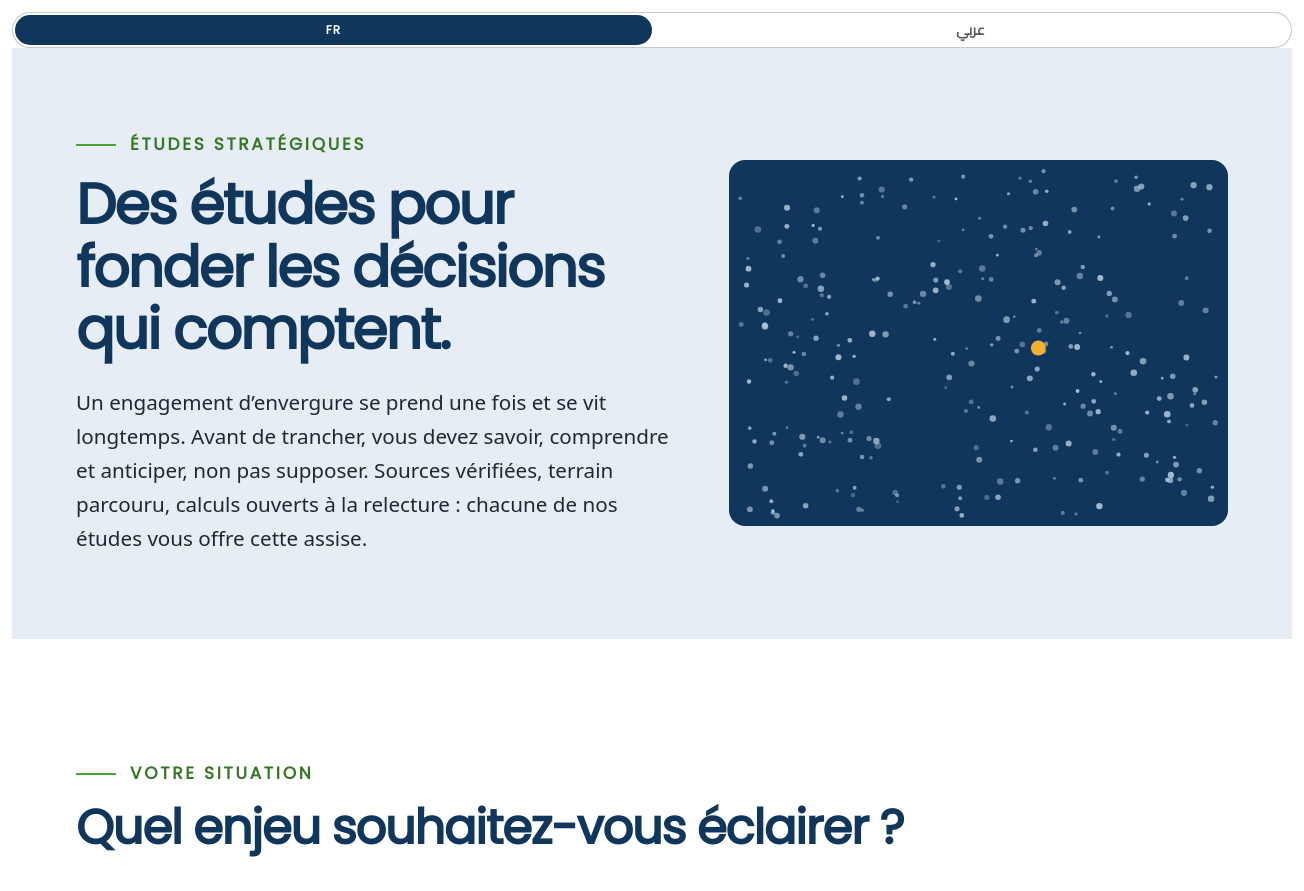
Page « Études stratégiques » › passe en arabe
What coordinates should you click on to do the following:
click the button "عربي"
I would click on:
 (970, 30)
Its box is [652, 15, 1289, 45].
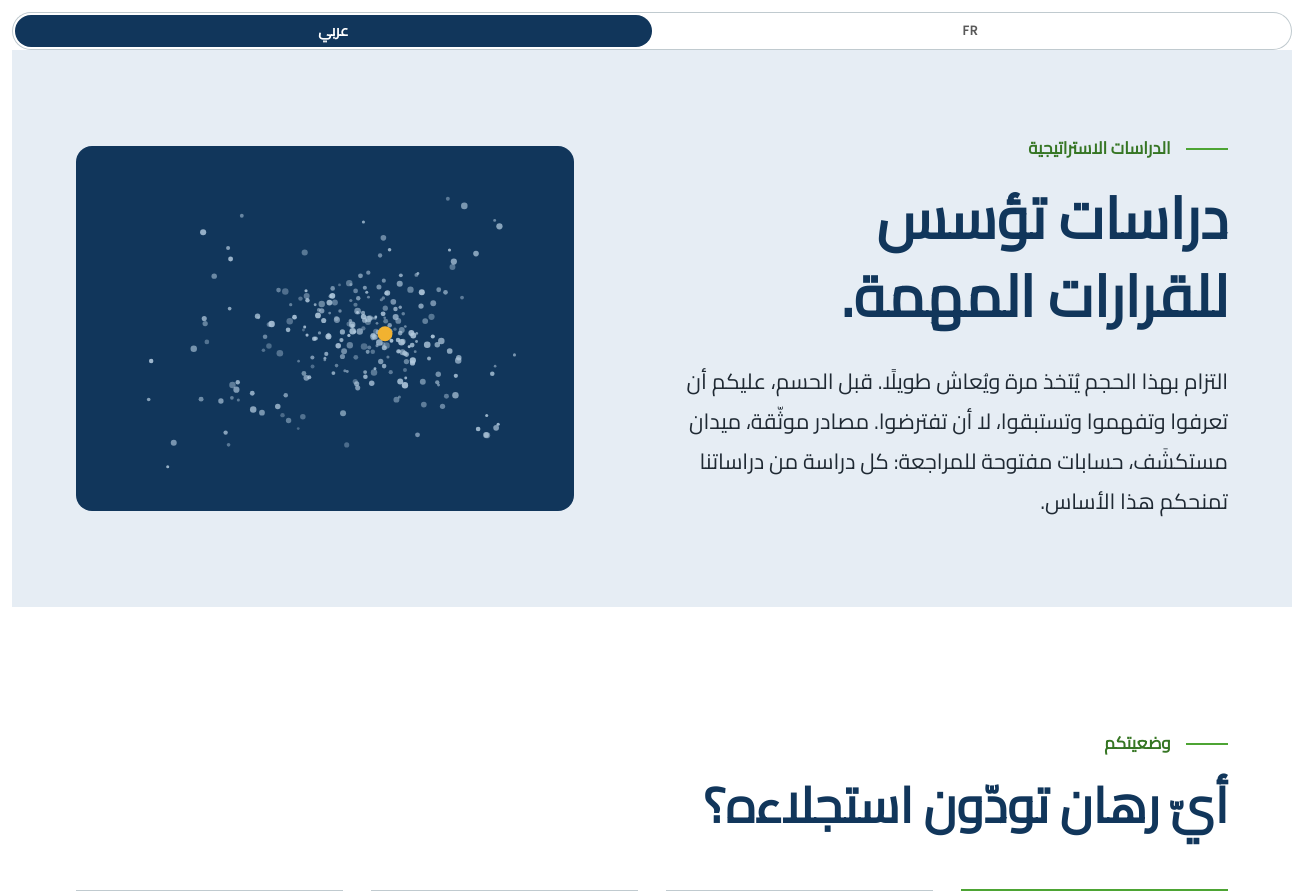
Check: the heading "دراسات تؤسس للقرارات المهمة." is shown, box [841, 164, 1228, 350]
